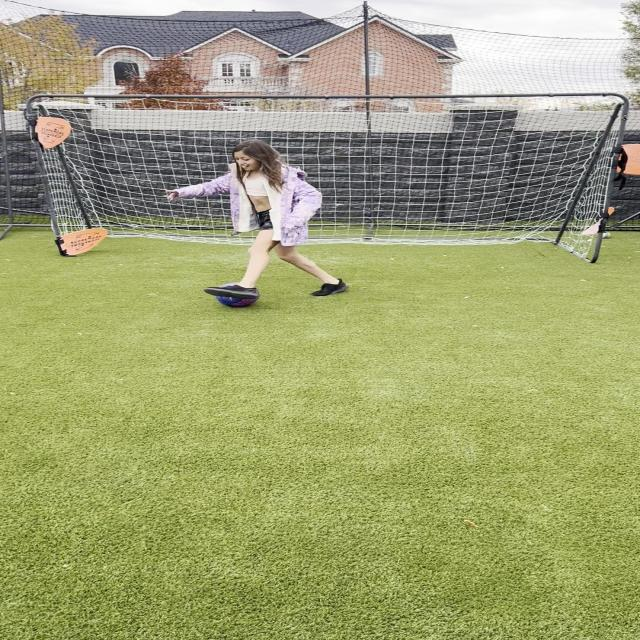Soccer Ball: (215, 282, 260, 308)
